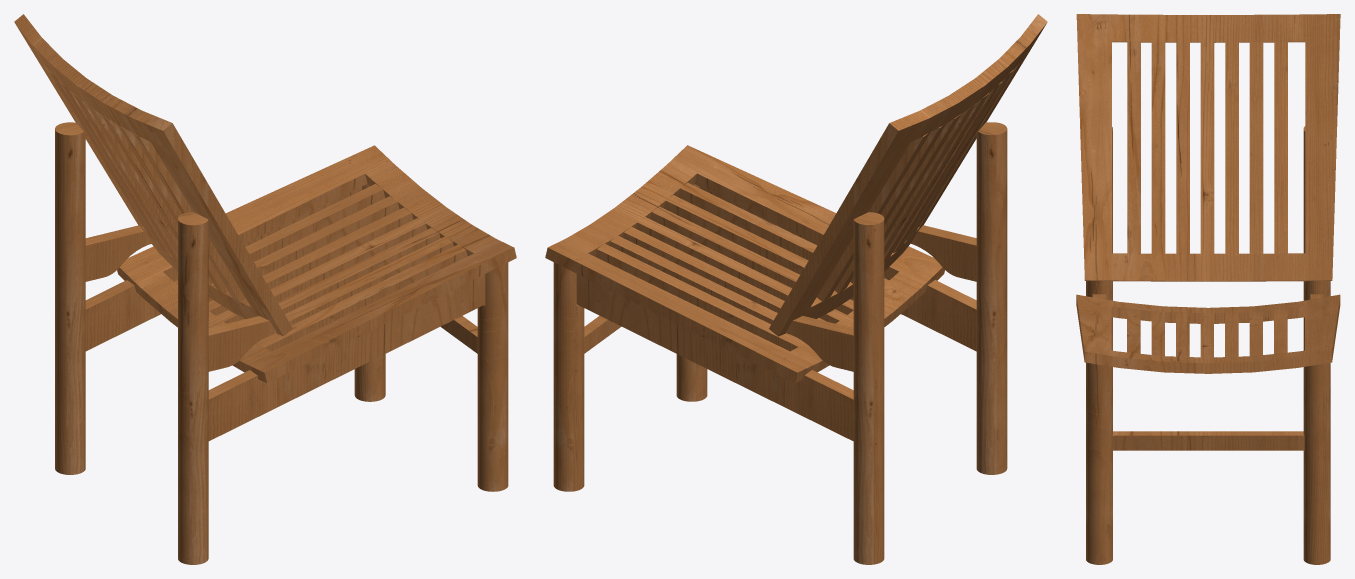
File: wooden_chair.glb
The picture shows the model from 3 angles, left to right: view 1: azimuth 30°, elevation 25°; view 2: azimuth 150°, elevation 25°; view 3: azimuth 270°, elevation 25°; orthographic projection. The views are drawn at different scales.
Visible parts, largest first — view 1: final assy; view 2: final assy; view 3: final assy.
Boxes of the visible parts, <box> form: final assy: <box>14,14,516,564</box>; final assy: <box>545,14,1047,564</box>; final assy: <box>1076,14,1340,564</box>.
Bounding box in the file's own units: 1.01 × 1.18 × 0.7021.
Materials: 1 (1 with a texture image).
